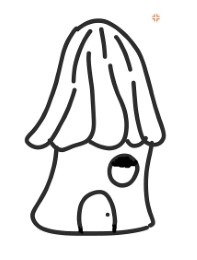door: (70, 185, 119, 240)
open_window: (106, 152, 139, 187)
roof: (24, 18, 165, 152)
wall: (26, 138, 162, 239)
